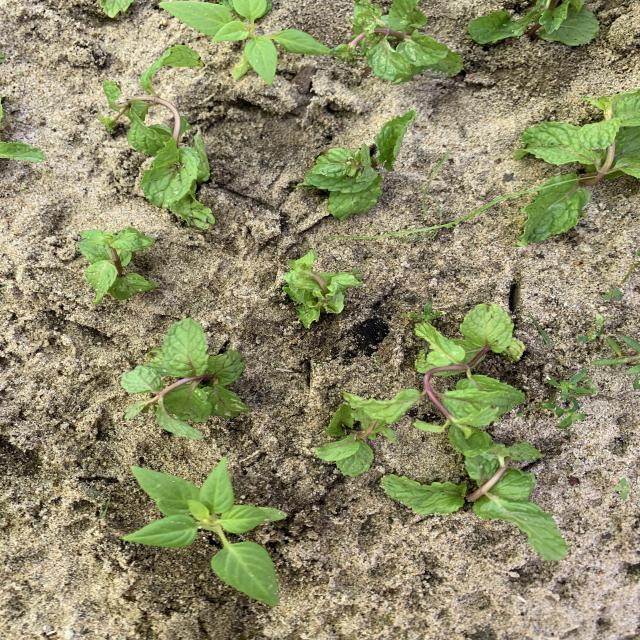crop: (322, 306, 524, 475), (381, 430, 567, 559), (515, 89, 639, 242), (101, 58, 213, 227), (122, 319, 249, 439), (298, 111, 415, 220), (345, 1, 463, 83), (315, 392, 409, 475), (283, 250, 362, 327), (468, 1, 599, 46), (80, 228, 157, 302), (1, 139, 47, 162), (98, 1, 133, 17)
weed: (125, 457, 286, 605), (160, 0, 330, 86), (328, 187, 540, 239), (593, 336, 639, 388), (547, 371, 594, 405), (542, 401, 572, 427), (577, 314, 603, 342), (557, 405, 586, 427), (406, 302, 442, 319), (532, 316, 551, 346), (614, 478, 631, 498), (603, 286, 622, 300)
